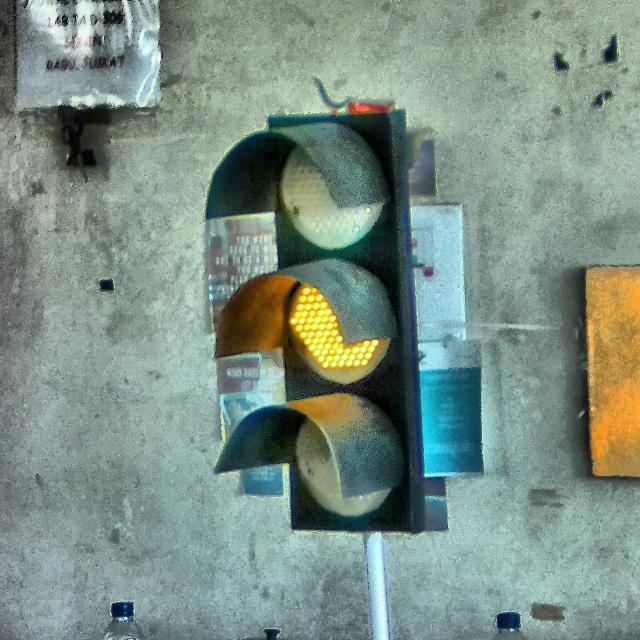yellow: (207, 118, 427, 532)
